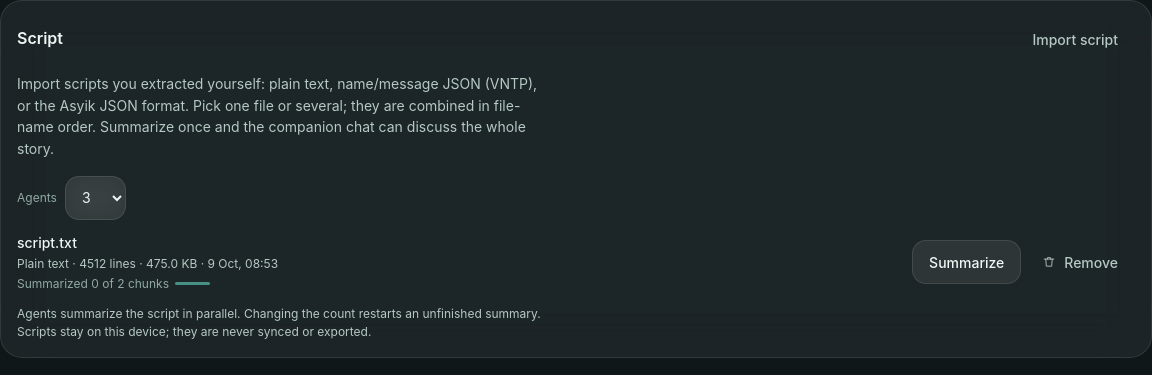
ScriptCard › summarizes in batches until the digest exists, showing progress
Click the button "Summarize" at point(967, 262), box [912,240,1021,284]
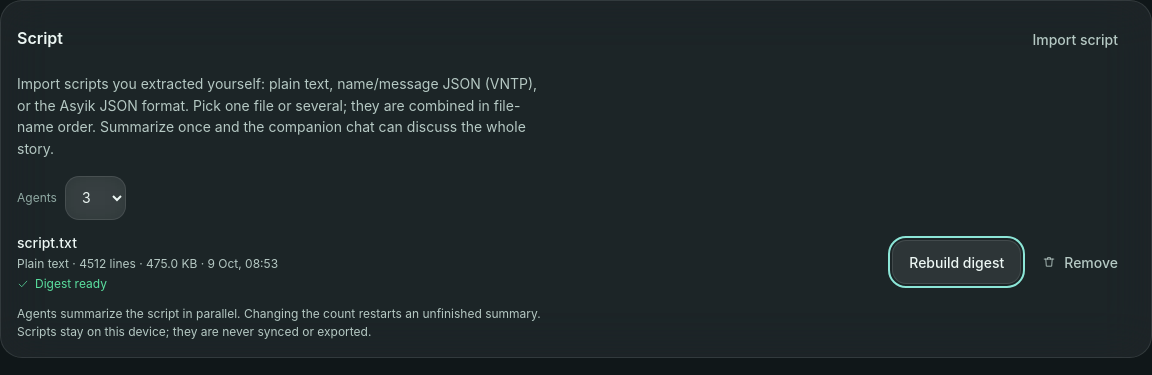
Check: the text "Digest ready" is shown, box [17,276,107,291]
